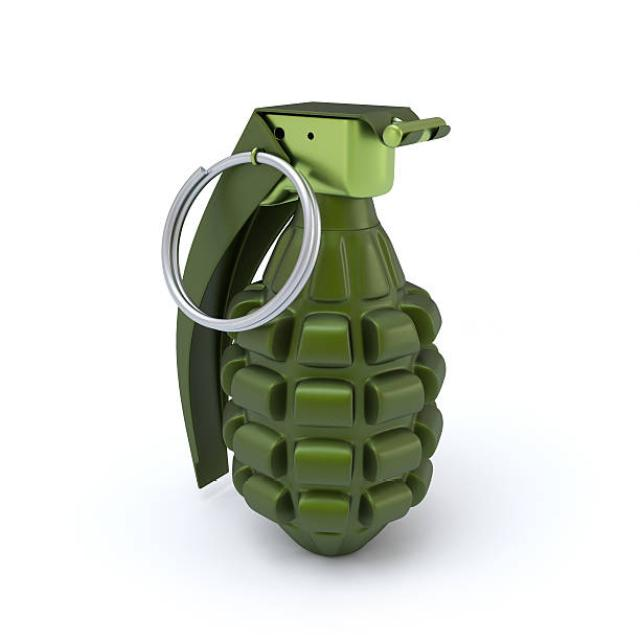grenade: (159, 99, 459, 563)
